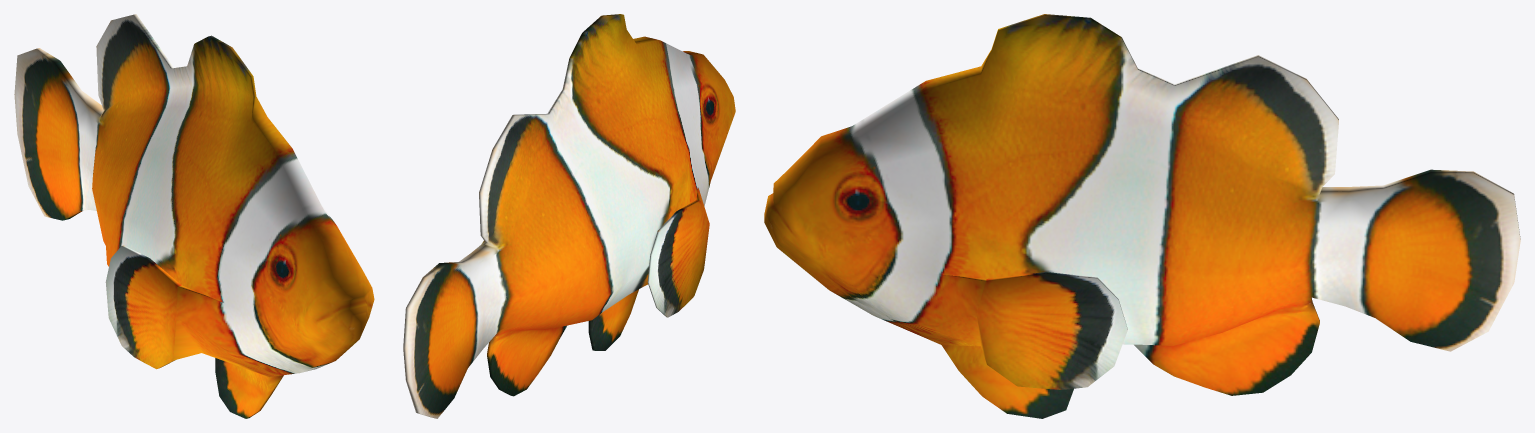
The model's file is fish12.glb.
3 views of the same model, side by side, from view 1: azimuth 30°, elevation 25°; view 2: azimuth 150°, elevation 25°; view 3: azimuth 270°, elevation 25° (orthographic). The views are drawn at different scales.
Parts seen in each view (by area): view 1: Asset3DLoader.sceneRoot; view 2: Asset3DLoader.sceneRoot; view 3: Asset3DLoader.sceneRoot.
Part boxes in pixels (<box>): Asset3DLoader.sceneRoot: <box>14,14,374,418</box>; Asset3DLoader.sceneRoot: <box>403,14,735,418</box>; Asset3DLoader.sceneRoot: <box>764,14,1520,418</box>.
Bounding box in the file's own units: 135 × 254 × 432.
Materials: 1 (1 with a texture image).
